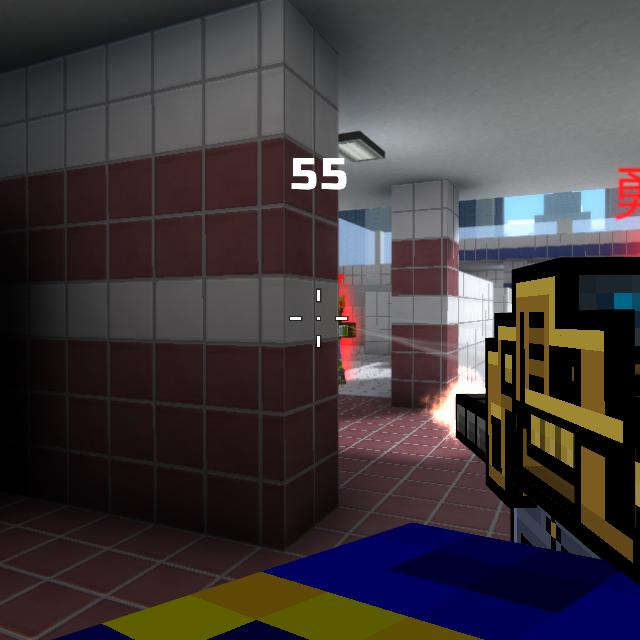Enemy: (338, 295, 357, 385)
